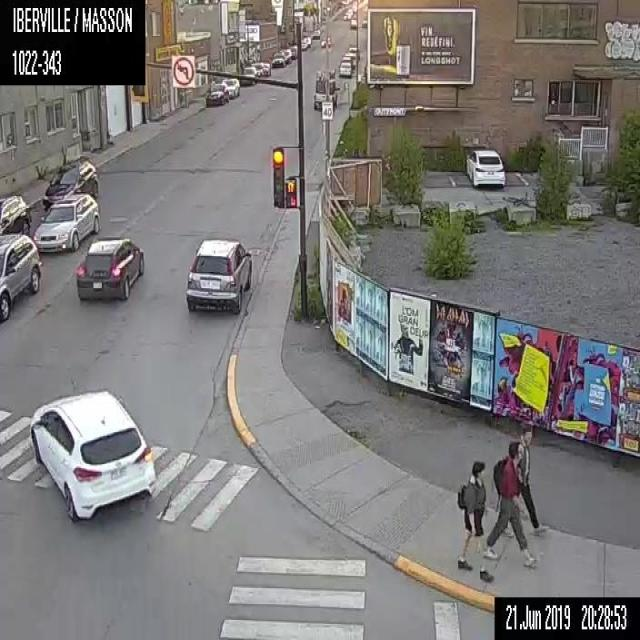pedestrian: (481, 441, 539, 571), (456, 458, 496, 582), (506, 425, 550, 536)
vehicle: (28, 387, 158, 521), (184, 236, 252, 314), (74, 237, 144, 302), (33, 192, 99, 252), (0, 230, 41, 322), (42, 157, 100, 210), (464, 147, 506, 190), (0, 194, 32, 234), (312, 67, 340, 112), (205, 82, 229, 106), (220, 77, 240, 97), (240, 62, 256, 86), (270, 49, 285, 68), (338, 60, 351, 77), (344, 50, 356, 68), (300, 35, 311, 51), (348, 44, 359, 60), (252, 61, 263, 77), (281, 49, 291, 64), (261, 61, 270, 75), (349, 16, 358, 30), (289, 46, 298, 59), (311, 28, 320, 38), (341, 55, 352, 63), (343, 11, 350, 20)
